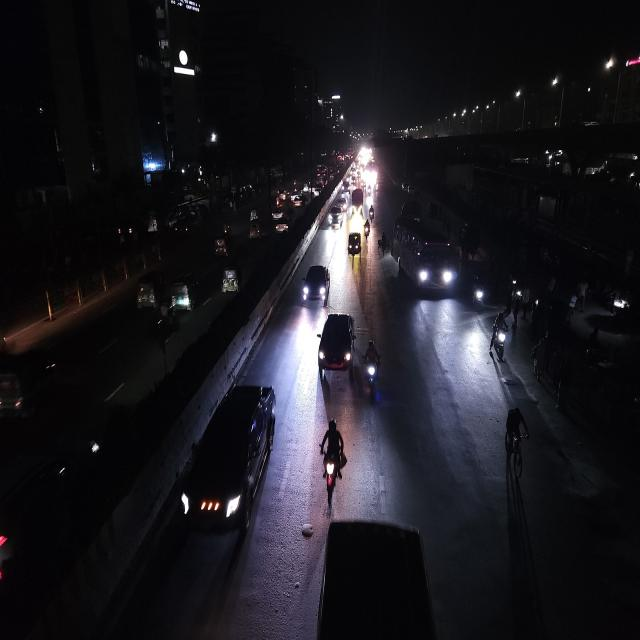bicycle: (500, 401, 531, 488)
bus: (393, 212, 461, 302)
car: (182, 378, 276, 547), (316, 309, 357, 384), (298, 259, 332, 310), (327, 202, 344, 229), (274, 218, 290, 238), (270, 204, 284, 222), (293, 194, 303, 209)
cng: (170, 266, 200, 316), (134, 269, 162, 316), (220, 256, 242, 304), (346, 230, 363, 266), (212, 232, 230, 258), (248, 217, 262, 242)
motorcycle: (318, 416, 348, 506), (483, 312, 513, 364), (362, 334, 383, 402), (470, 271, 488, 314), (363, 218, 371, 242)
rickshaw: (377, 236, 391, 260)
truck: (351, 187, 365, 217)
